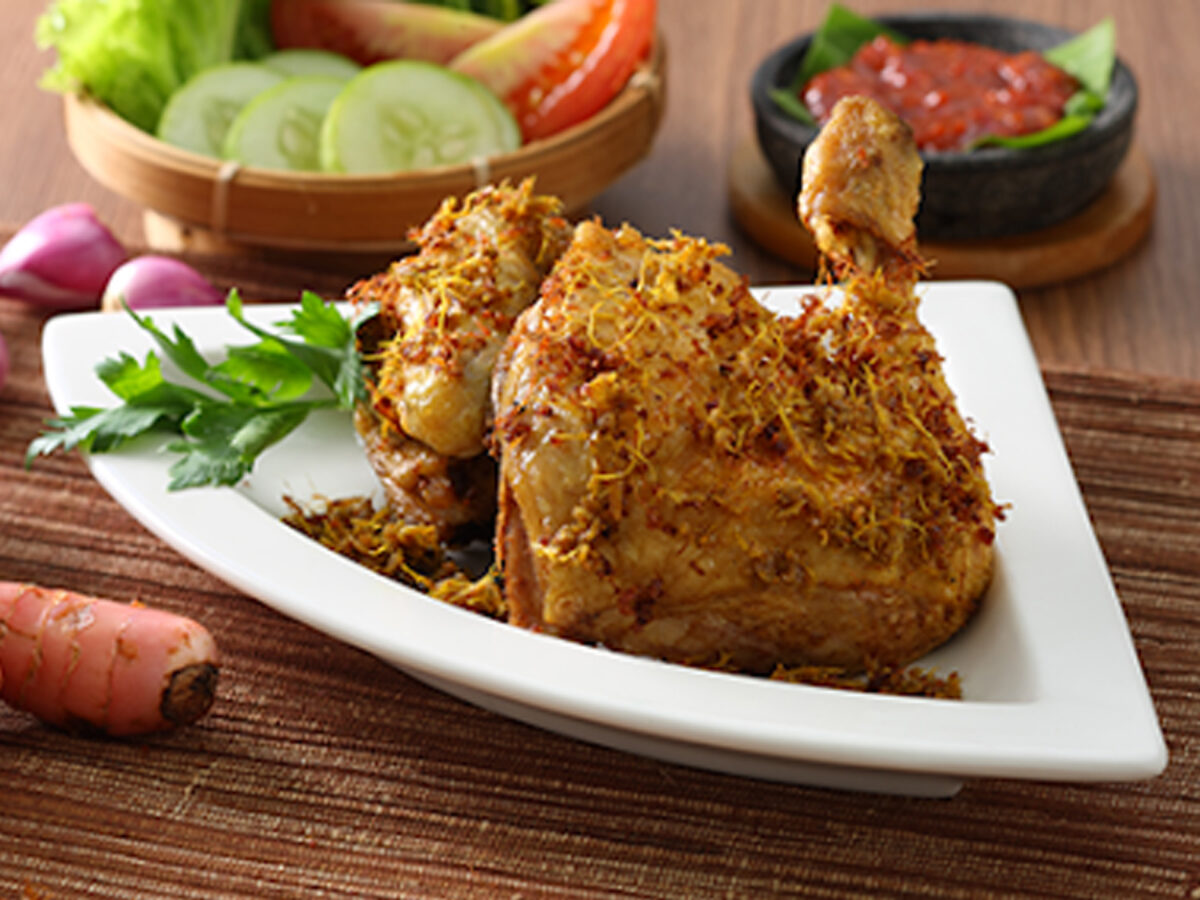Ayam: (512, 126, 985, 687)
